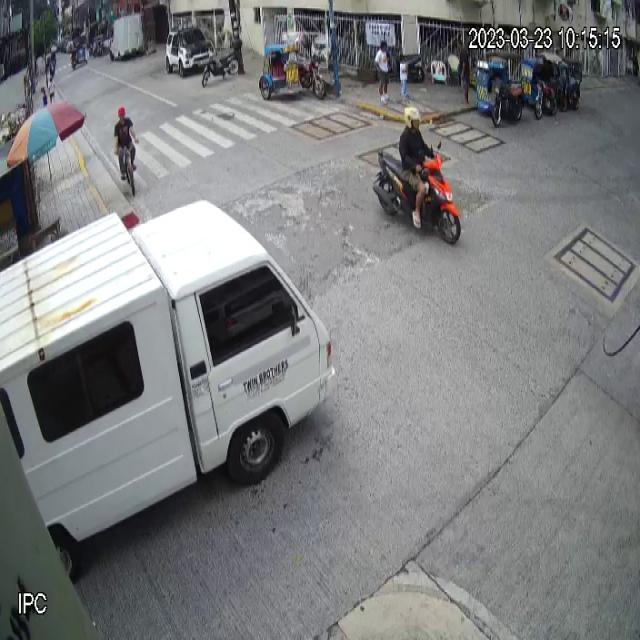Motorcycle: (372, 145, 461, 246)
Tricycle: (259, 31, 327, 102), (476, 51, 522, 128)
Van: (0, 194, 336, 578)
